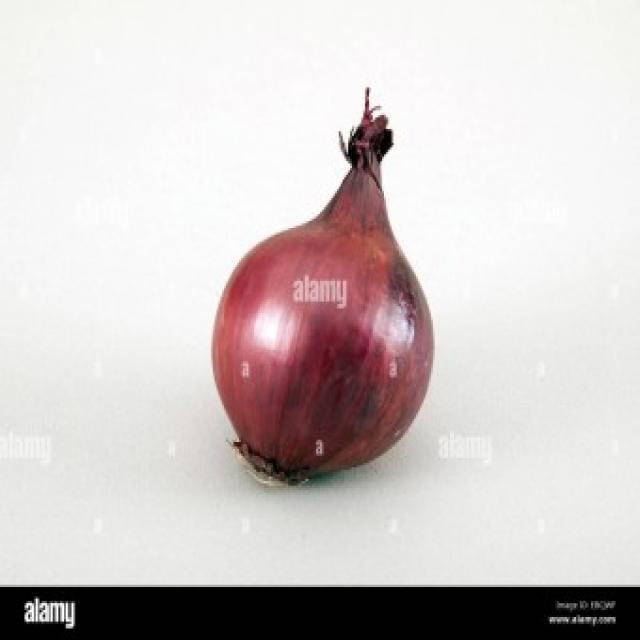onion: (187, 97, 519, 490)
